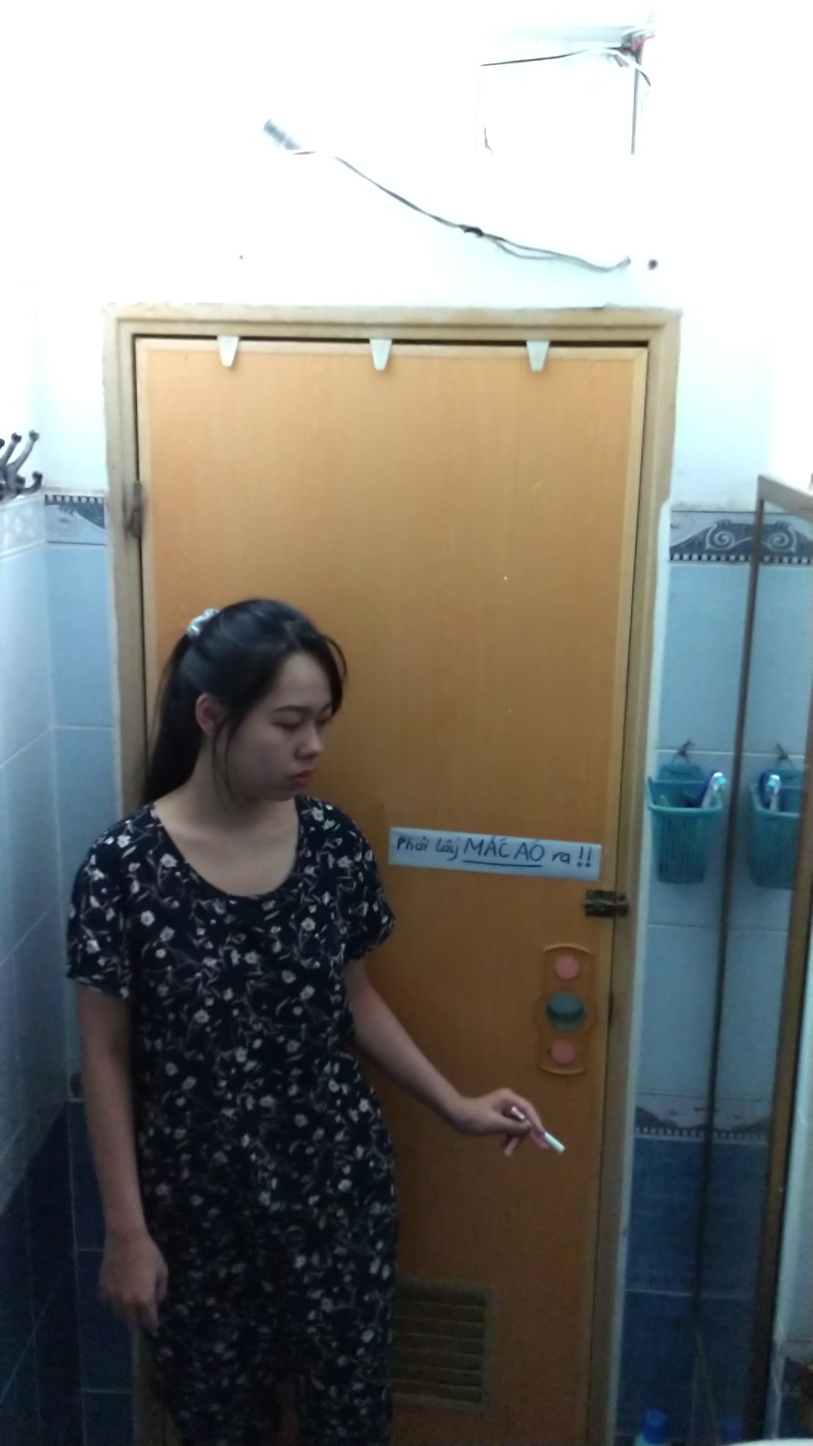cigarette: (542, 1128, 570, 1158)
person: (32, 569, 556, 1442)
